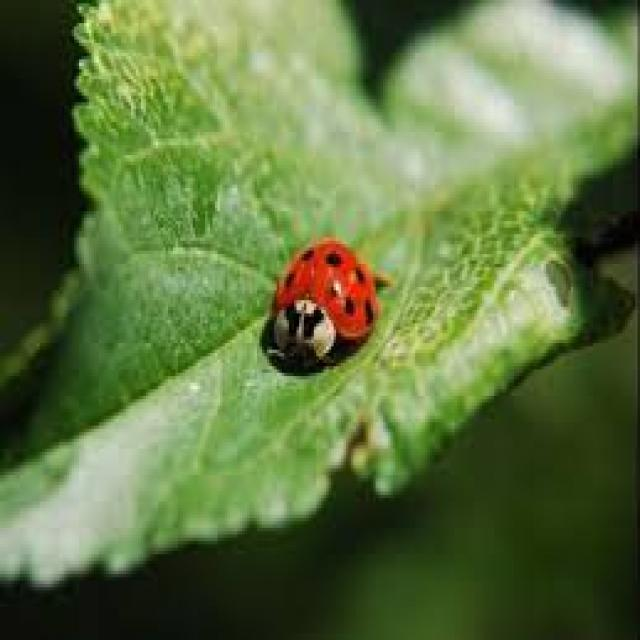ladybug: (264, 238, 388, 373)
